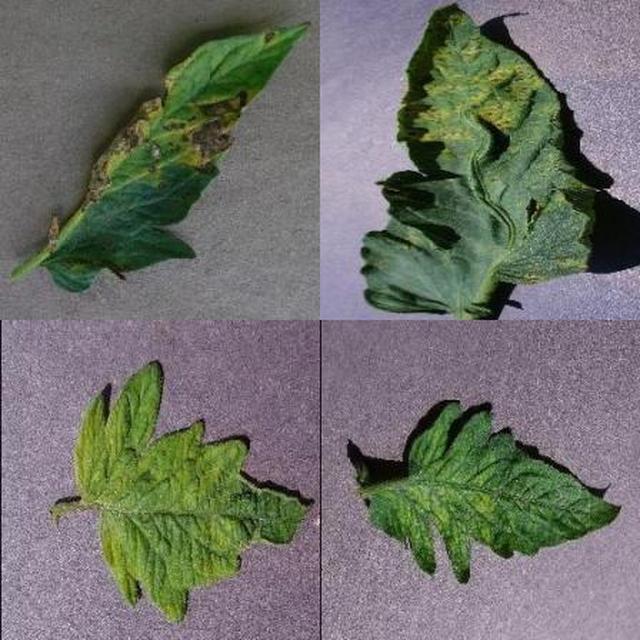Early Blight Leaf: (256, 229, 640, 640)
